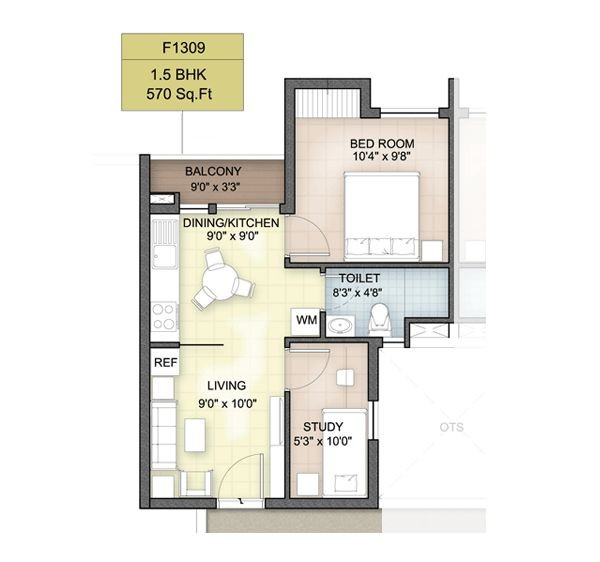balcony: (137, 153, 296, 216)
door: (219, 451, 269, 493), (294, 347, 333, 390), (299, 212, 334, 259)
room: (283, 76, 453, 271), (139, 341, 292, 513), (138, 203, 291, 348), (284, 336, 380, 511), (319, 261, 454, 344)
window: (379, 105, 441, 121), (367, 398, 381, 442), (176, 203, 211, 214)
